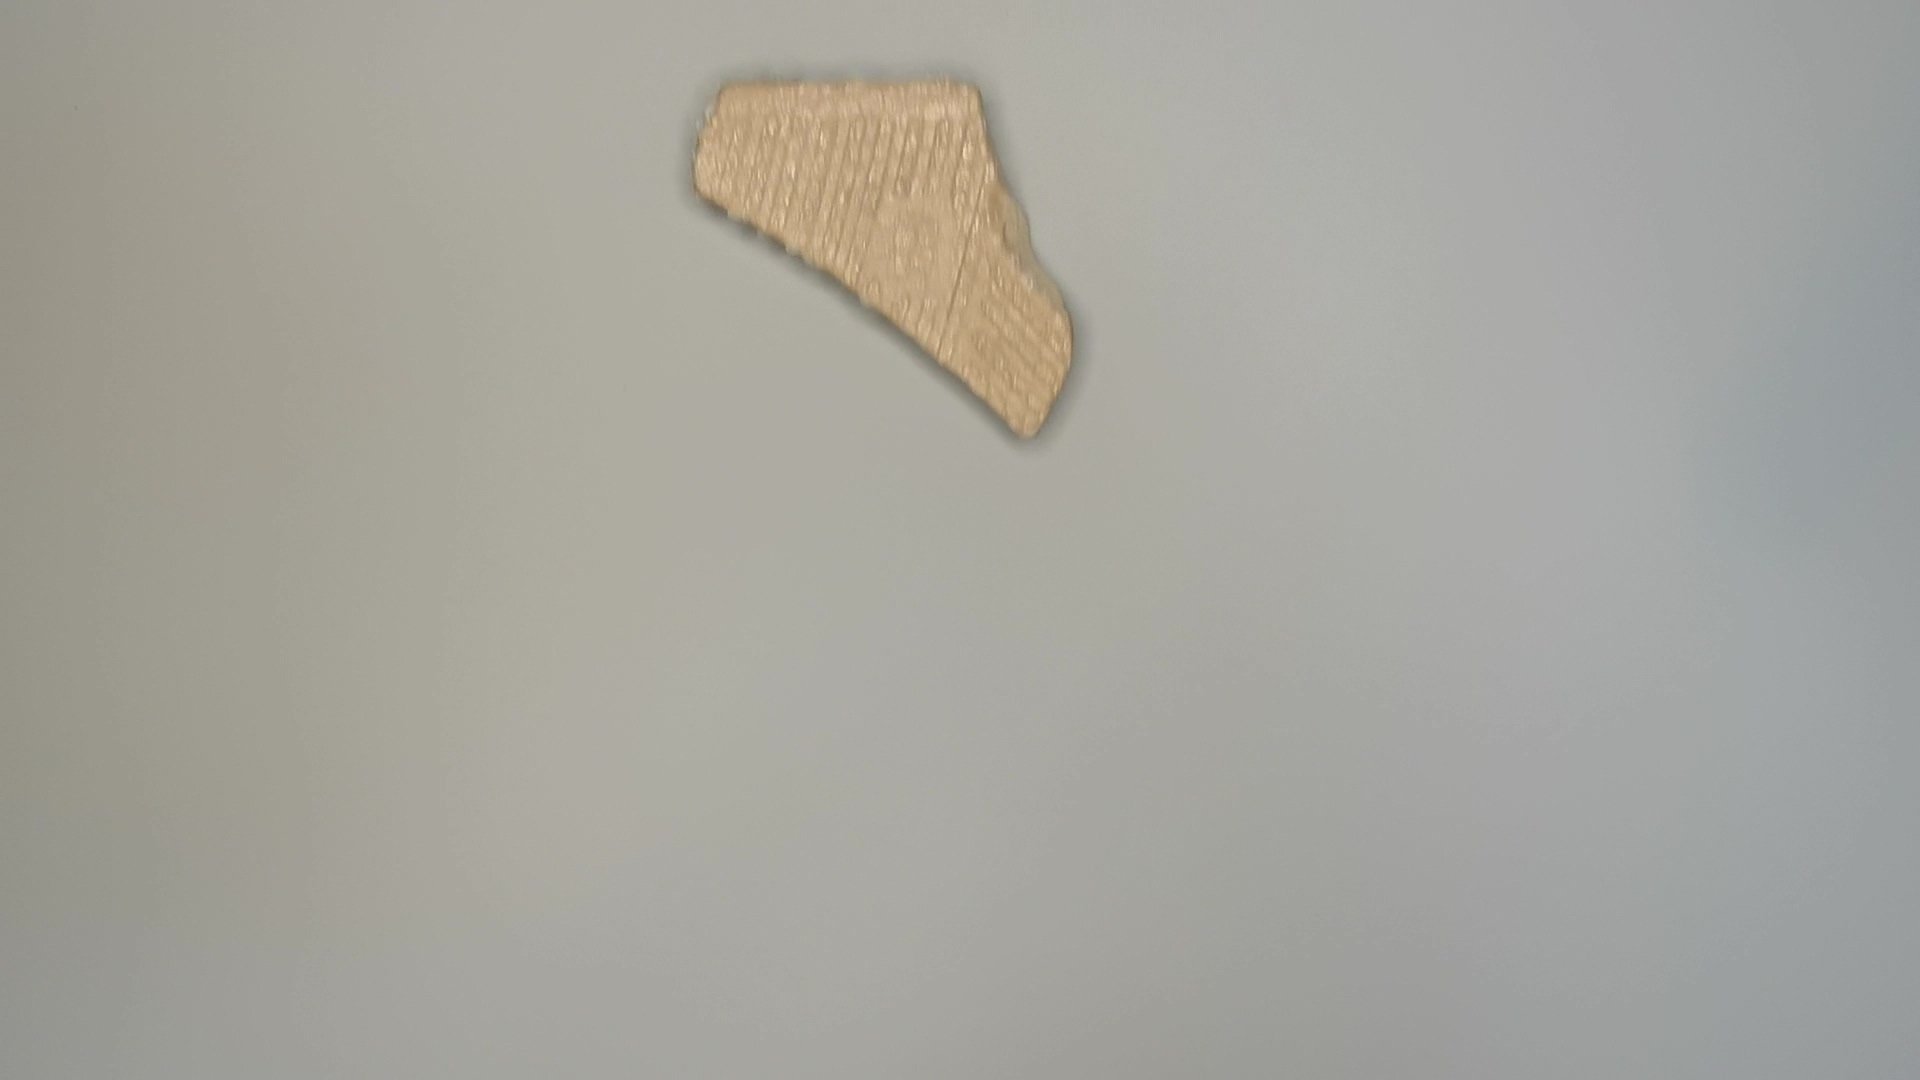ceramic: (694, 65, 1089, 448)
